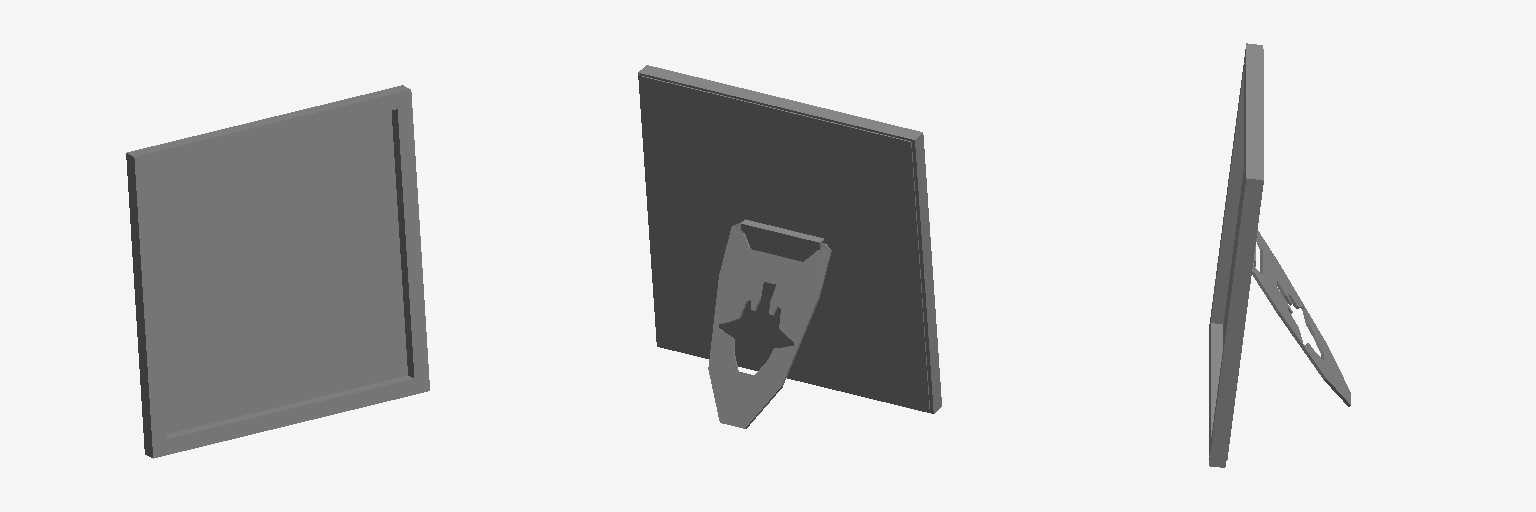
File: album.obj
The picture shows the model from 3 angles: view 1: azimuth 30°, elevation 25°; view 2: azimuth 150°, elevation 25°; view 3: azimuth 270°, elevation 25°; orthographic projection.
Visible parts, largest first — view 1: Box007, Box002, Box004, Box003, Box001; view 2: Box005, Box006, Box002, Box004, Box001, Box003; view 3: Box003, Box006, Box002, Box004, Box001.
Part boxes in pixels (x1,y1,x2,y2): Box007: (150,111,407,433); Box002: (126,153,166,457); Box004: (127,85,410,168); Box003: (392,91,429,389); Box001: (153,375,429,458); Box005: (642,76,929,408); Box006: (708,223,831,428); Box002: (912,133,941,413); Box004: (638,65,922,141); Box001: (657,344,932,413); Box003: (638,73,660,345); Box003: (1209,179,1262,467); Box006: (1252,230,1350,406); Box002: (1209,49,1245,326); Box004: (1244,43,1262,185); Box001: (1209,323,1222,456).
Bounding box in the file's own units: 91.84 × 91.95 × 41.01.